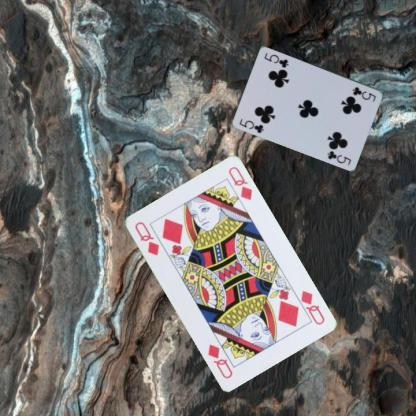5c: (350, 84, 377, 103), (237, 116, 265, 134)
Qd: (290, 288, 326, 326), (132, 219, 160, 257)
